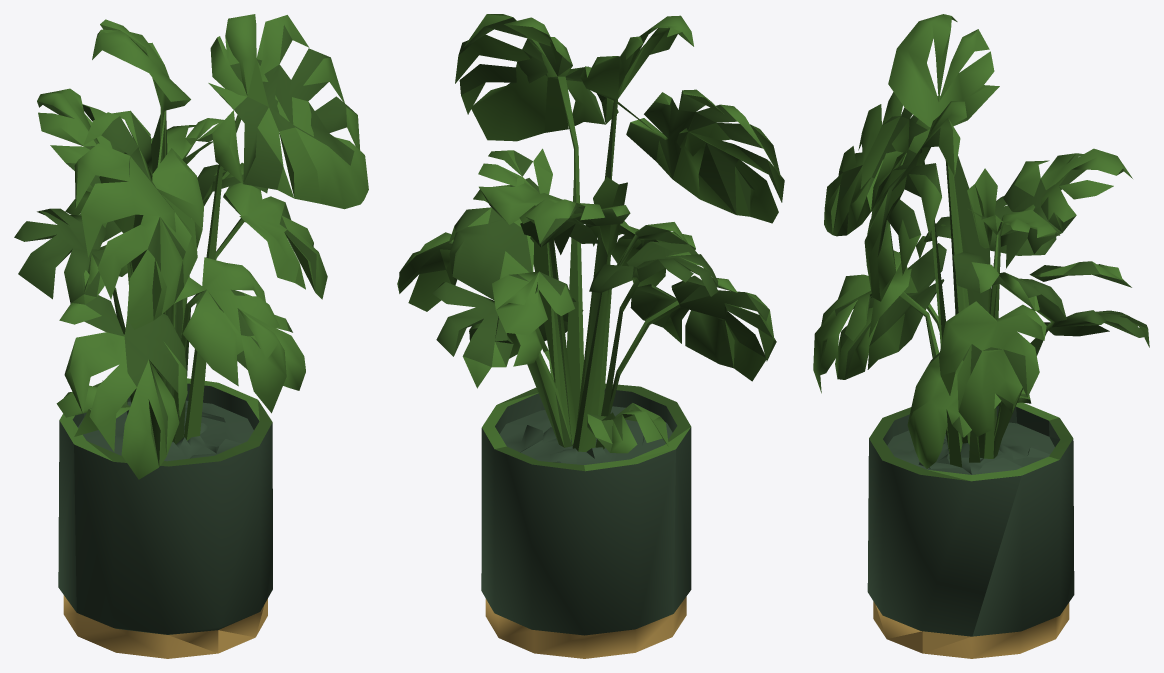
Rendered from GJH_PUB_007.glb.
3 views of the same model, side by side, from view 1: azimuth 30°, elevation 25°; view 2: azimuth 150°, elevation 25°; view 3: azimuth 270°, elevation 25° (orthographic). The views are drawn at different scales.
Visible parts, largest first — view 1: GJH-PUB-007; view 2: GJH-PUB-007; view 3: GJH-PUB-007.
Part boxes in pixels (box(x1,y1,x2,y2)): GJH-PUB-007: box(14, 14, 368, 658); GJH-PUB-007: box(397, 14, 784, 658); GJH-PUB-007: box(813, 14, 1149, 658).
Size of the model in its own units: 0.75 by 1.4 by 0.75.
